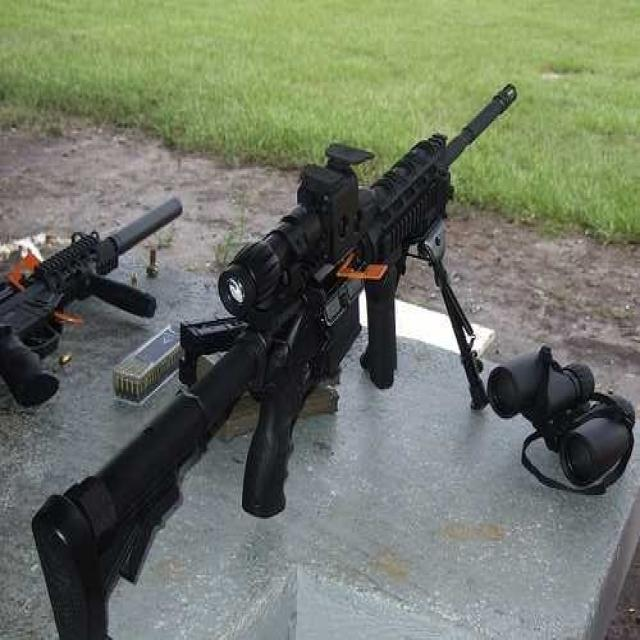heavyweapon: (20, 67, 536, 619)
